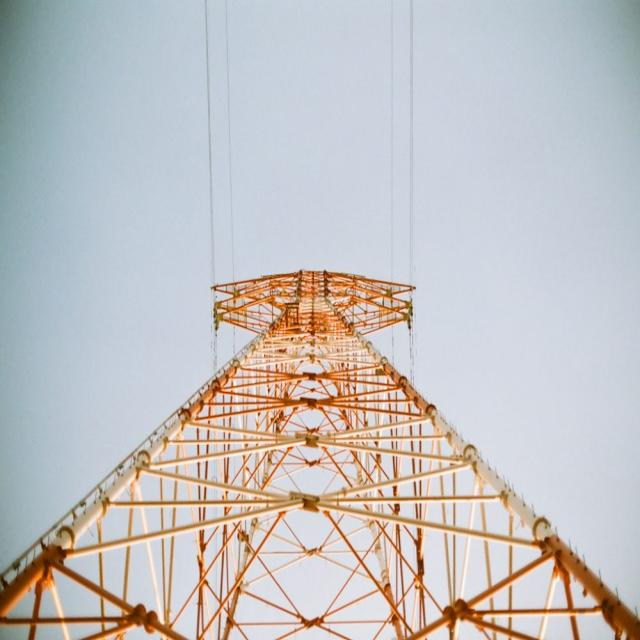transmission tower: (26, 158, 629, 640)
